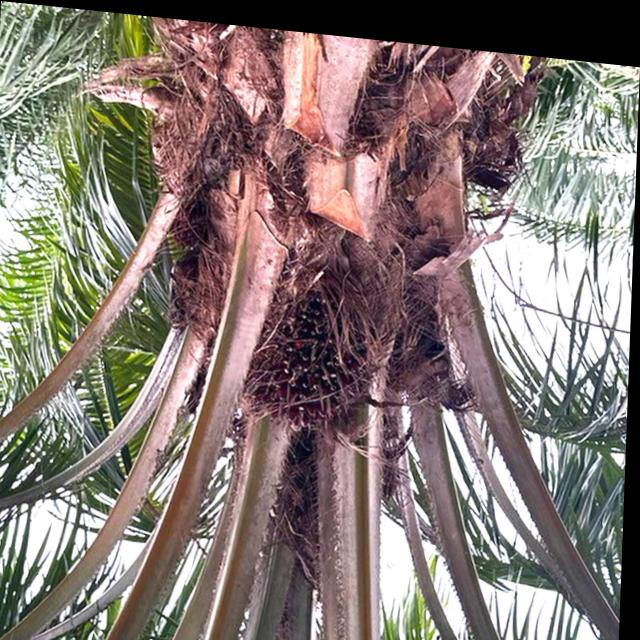ripe: (244, 264, 384, 437)
